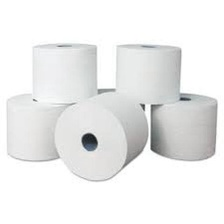tissue: (50, 86, 152, 184), (145, 88, 224, 164), (0, 88, 77, 165), (27, 36, 102, 110), (109, 39, 187, 108)
